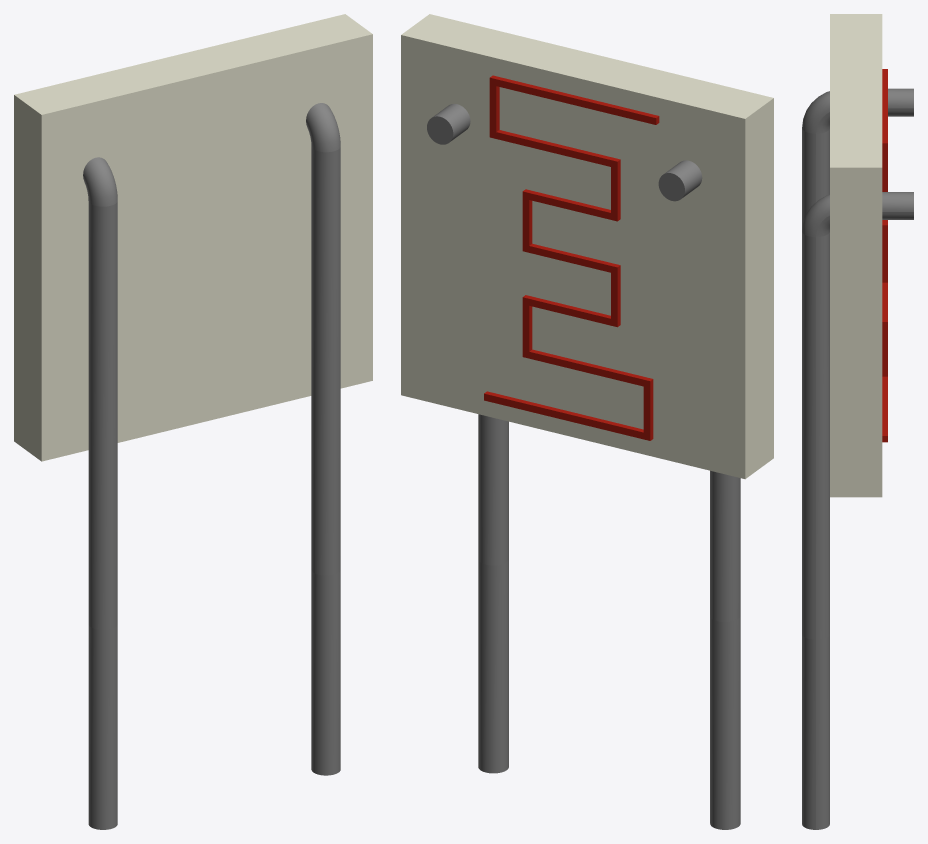
File: kc-r_ldr_5.2x5.2mm_p3.5mm_horizontal.glb
3 renders of one model, left to right at view 1: azimuth 30°, elevation 25°; view 2: azimuth 150°, elevation 25°; view 3: azimuth 270°, elevation 25°, orthographic. The views are drawn at different scales.
Parts seen in each view (by area): view 1: 0.75_0.75_0.6666666666666666_0, 0.25_0.25_0.25_0; view 2: 0.75_0.75_0.6666666666666666_0, 0.25_0.25_0.25_0, 0.4166666666666667_0_0_0; view 3: 0.75_0.75_0.6666666666666666_0, 0.25_0.25_0.25_0, 0.4166666666666667_0_0_0.
Boxes of the visible parts, box(x1,y1,x2,y2) form: 0.75_0.75_0.6666666666666666_0: box(14, 14, 372, 461); 0.25_0.25_0.25_0: box(83, 103, 340, 829); 0.75_0.75_0.6666666666666666_0: box(401, 14, 773, 479); 0.25_0.25_0.25_0: box(427, 103, 740, 829); 0.4166666666666667_0_0_0: box(484, 75, 659, 440); 0.75_0.75_0.6666666666666666_0: box(830, 14, 882, 497); 0.25_0.25_0.25_0: box(802, 88, 913, 829); 0.4166666666666667_0_0_0: box(882, 69, 887, 442).
Bounding box in the file's own units: 0.52 × 1.08 × 0.16.
